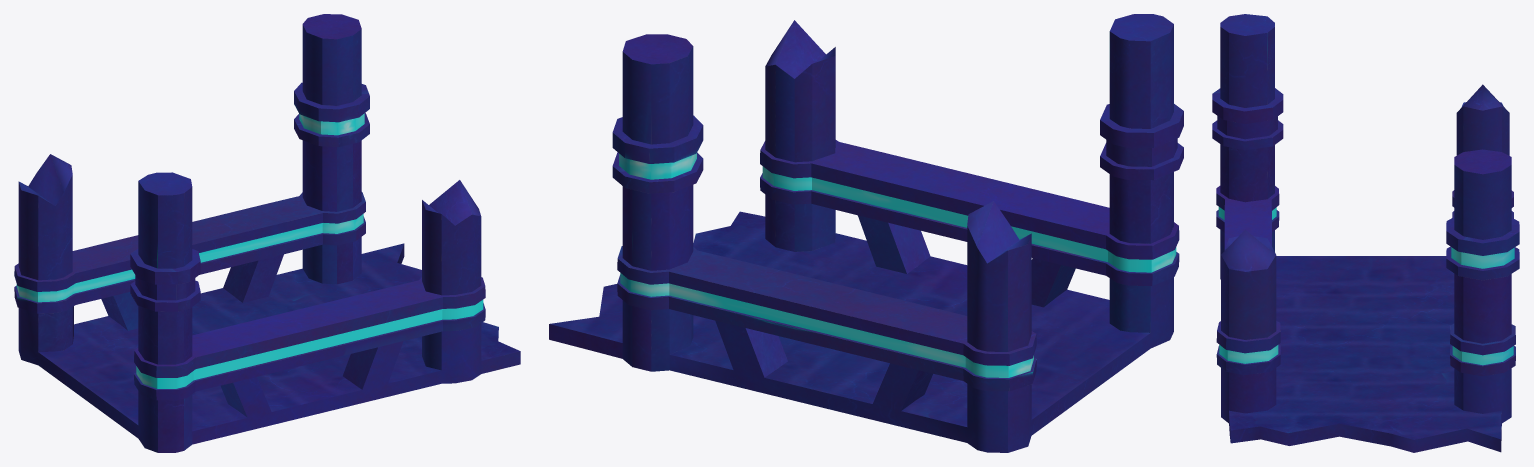
Rendered from puente_roto.obj.
3 views of the same model, side by side, from view 1: azimuth 30°, elevation 25°; view 2: azimuth 150°, elevation 25°; view 3: azimuth 270°, elevation 25° (orthographic). The views are drawn at different scales.
Visible parts, largest first — view 1: broken_bridge_broken_bridgeSG; view 2: broken_bridge_broken_bridgeSG; view 3: broken_bridge_broken_bridgeSG.
Boxes of the visible parts, x1,y1,x2,y2 form: broken_bridge_broken_bridgeSG: (14, 14, 520, 452); broken_bridge_broken_bridgeSG: (549, 14, 1183, 452); broken_bridge_broken_bridgeSG: (1212, 14, 1519, 452).
Bounding box in the file's own units: 258 × 160 × 176.
1 material, 1 textured.
